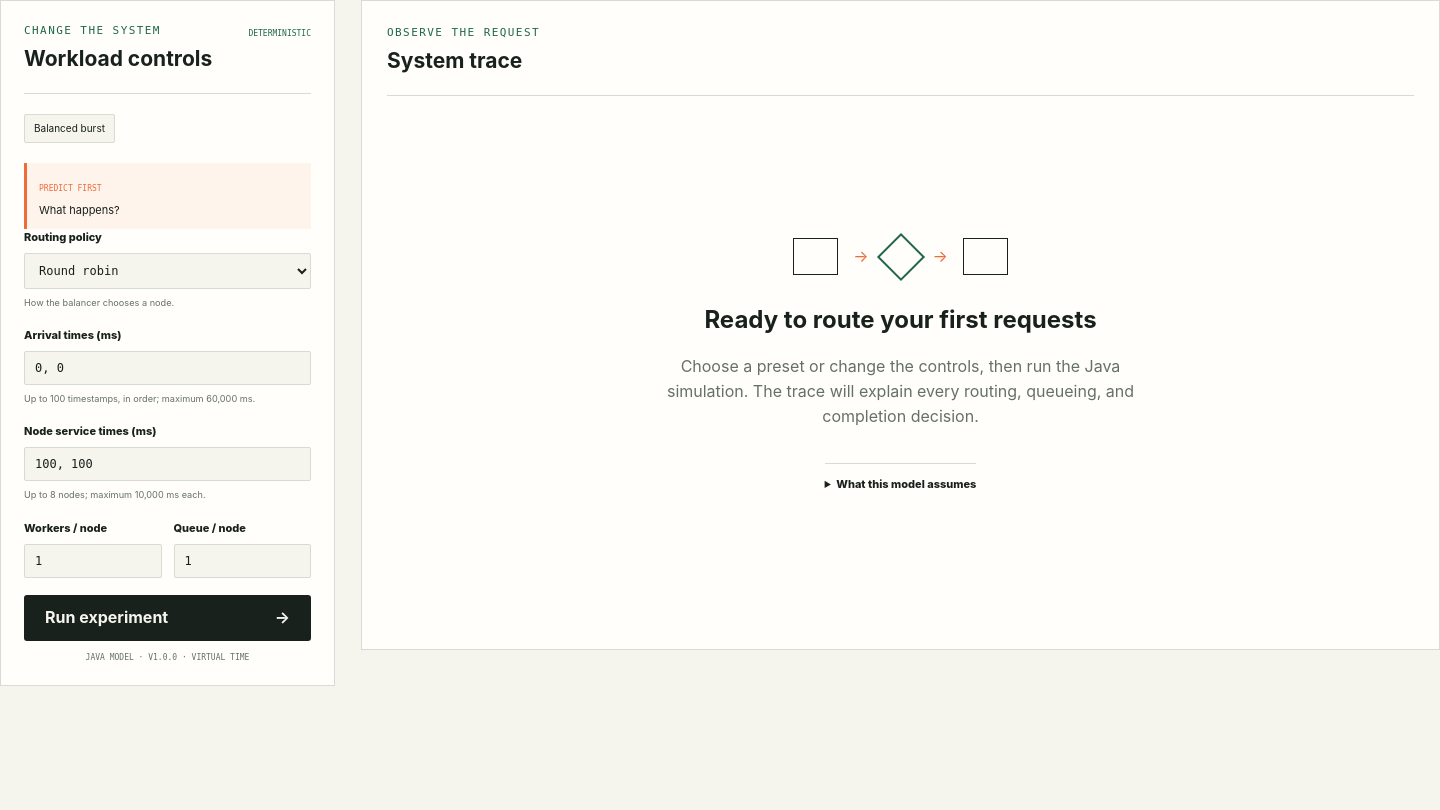
Test: Request flow playground › changes playback cadence without changing modeled event times
The width and height of the screenshot is (1440, 810).
Click the button "Run experiment →".
click(168, 618)  # box [24, 595, 311, 641]
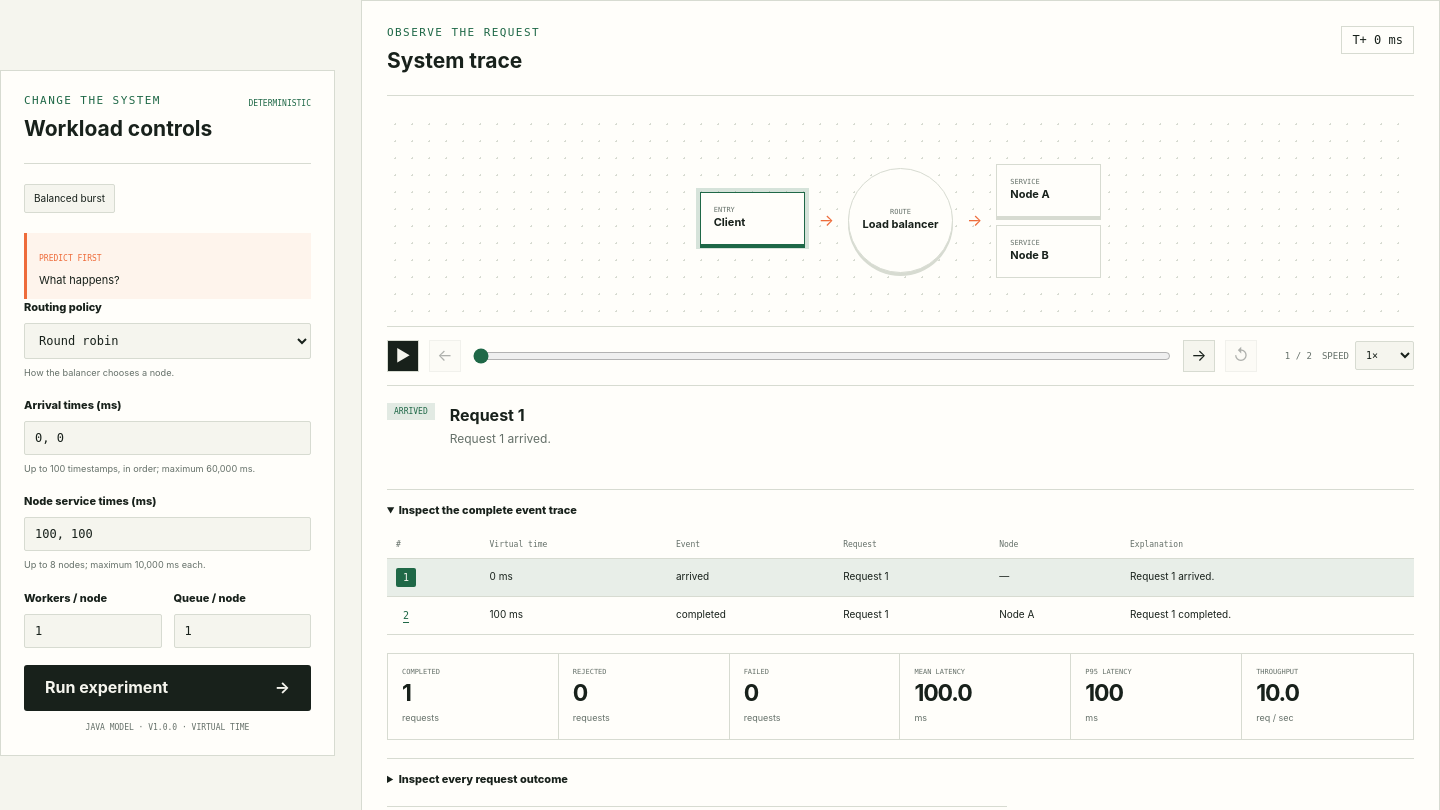
Expected: the text "Request 1 arrived." is shown, [450, 430, 551, 449]
Select "2×" in the dropdown named "Playback speed" at [1384, 356], box [1355, 341, 1414, 370]
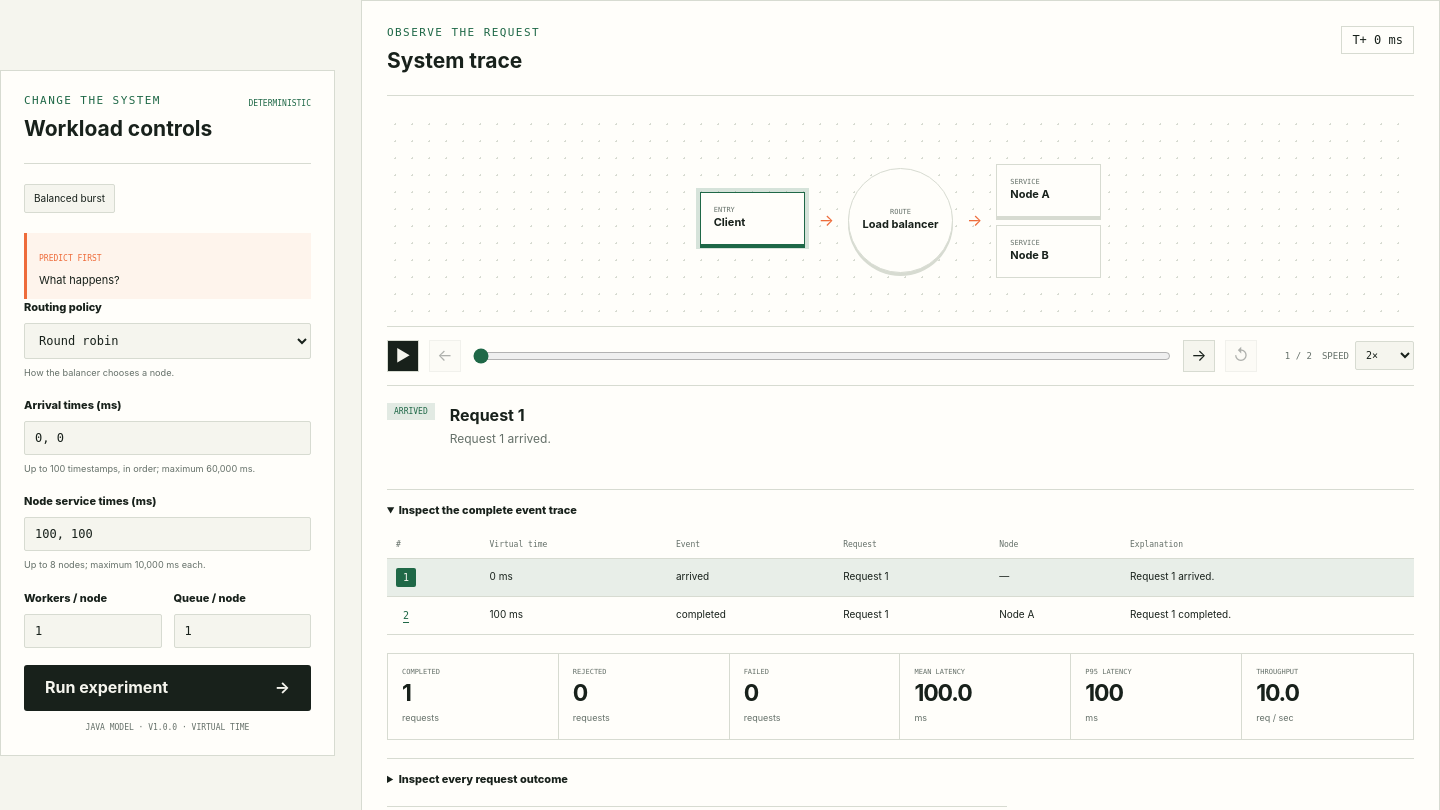
Click the button named "Play trace".
click(403, 356)  # box [387, 340, 419, 372]
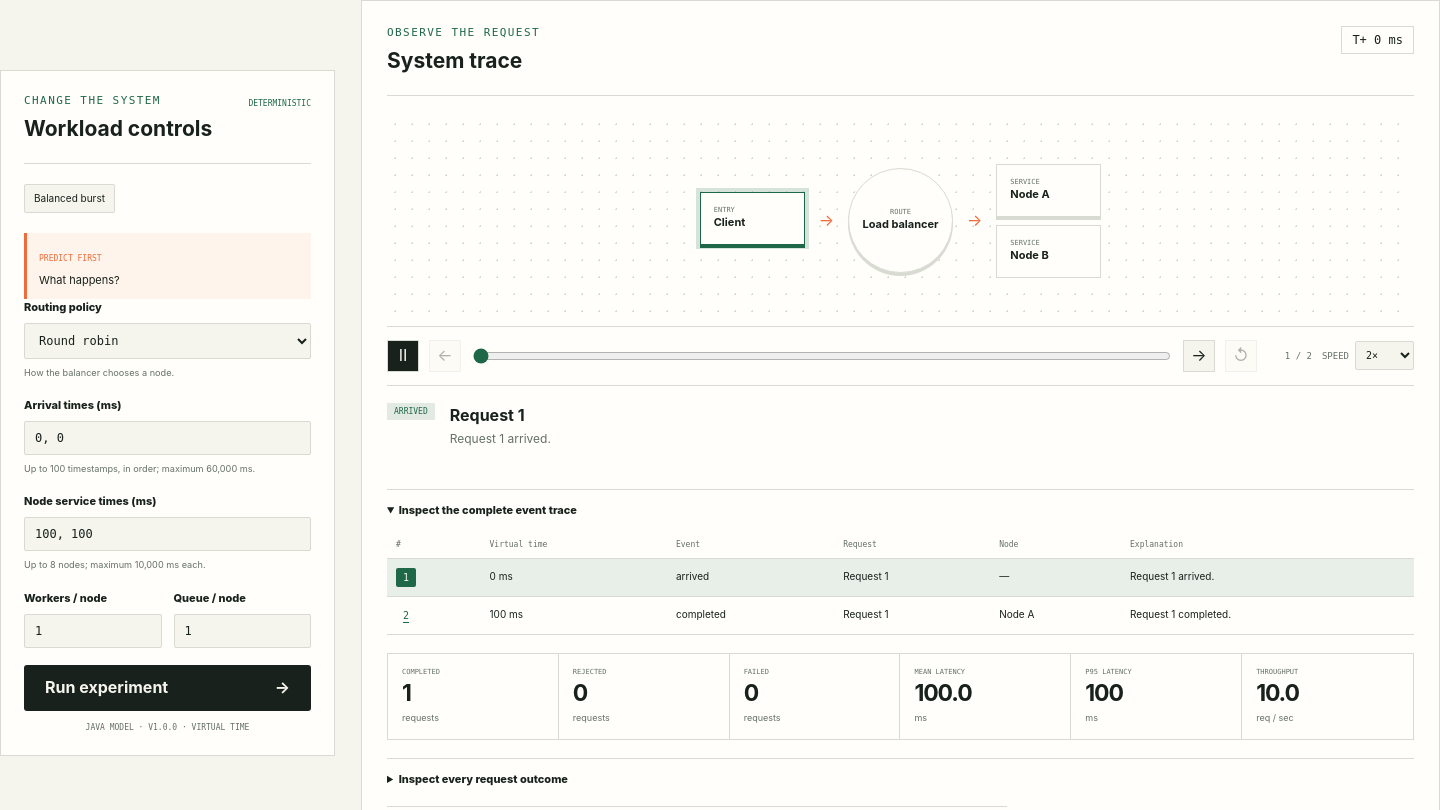
Click the button named "Next event".
click(1199, 356)  # box [1183, 340, 1215, 372]
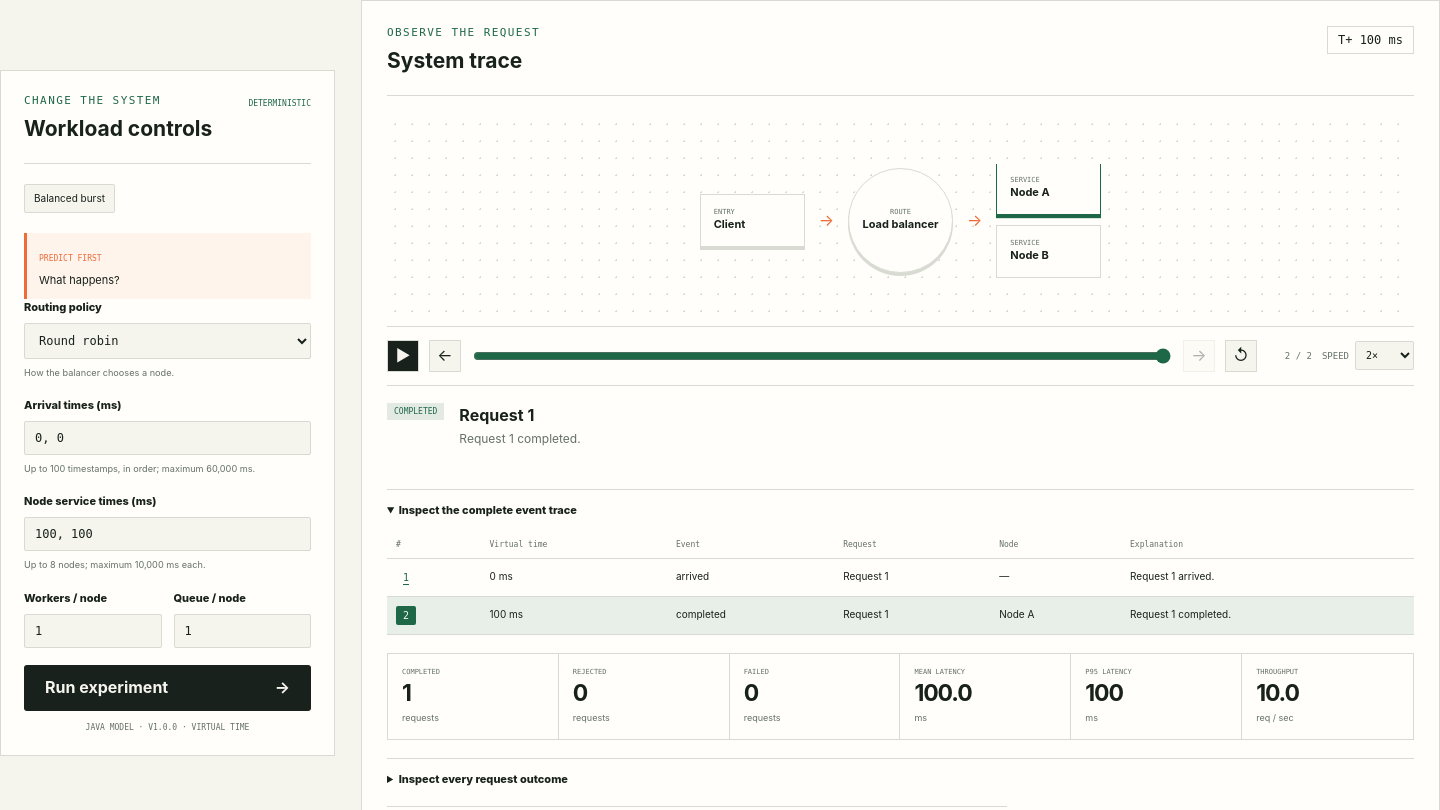
Expected: the text "Request 1 completed." is shown, [459, 430, 581, 449]
Click the button named "Reset trace".
click(1241, 356)  # box [1225, 340, 1257, 372]
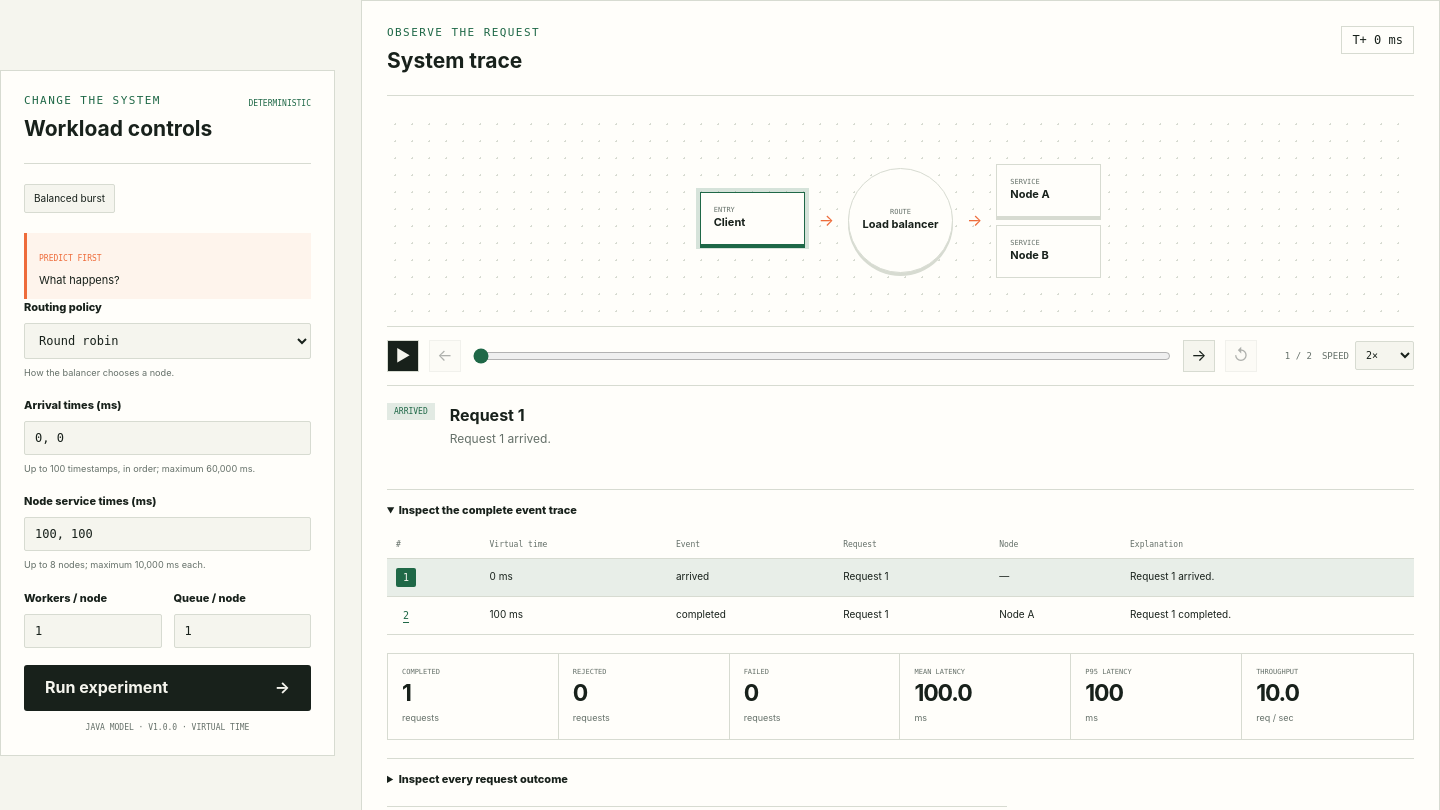
Expected: the text "Request 1 arrived." is shown, [450, 430, 551, 449]
Click the button named "View event 2".
click(406, 615)  # box [396, 606, 416, 625]
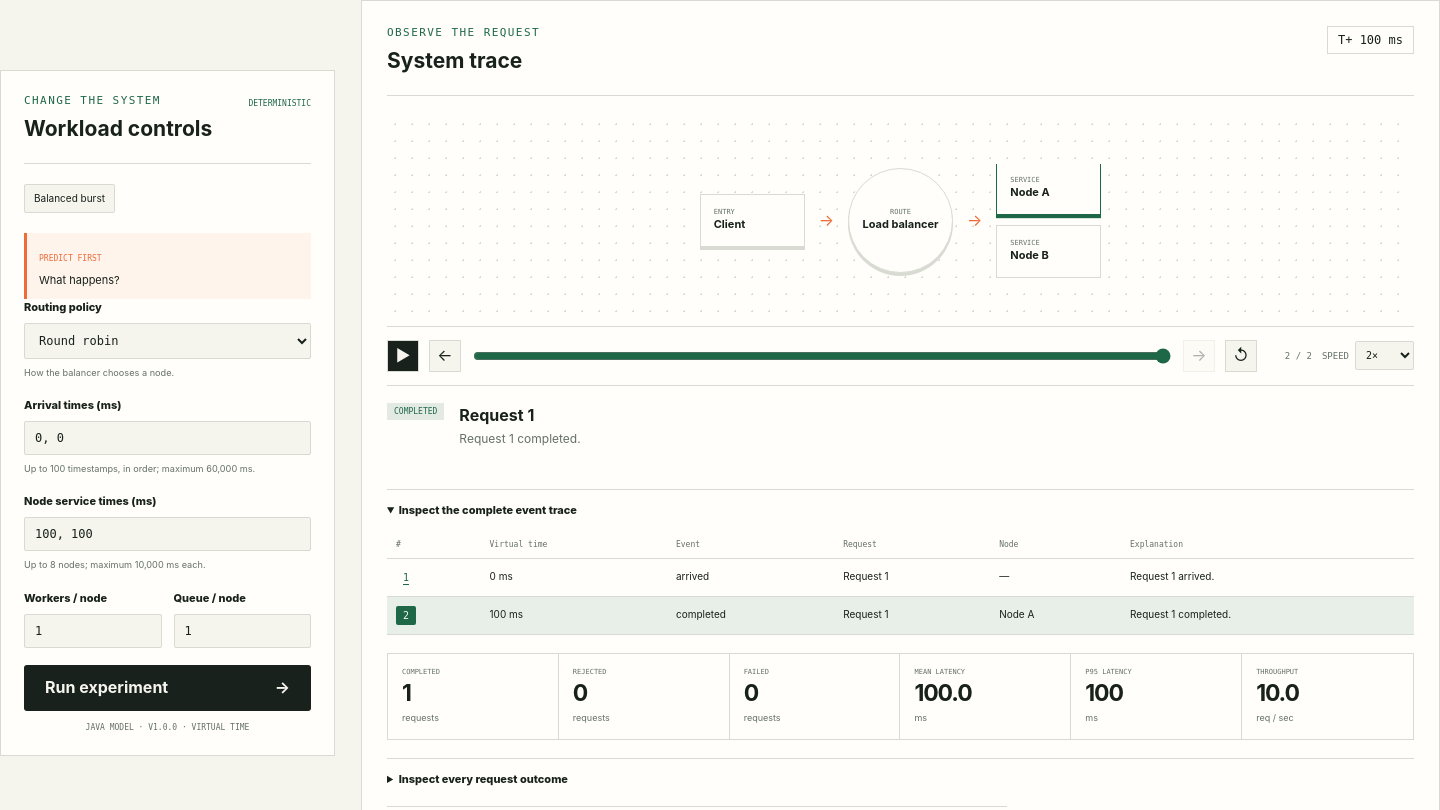
Expected: the text "Request 1 completed." is shown, [459, 430, 581, 449]
